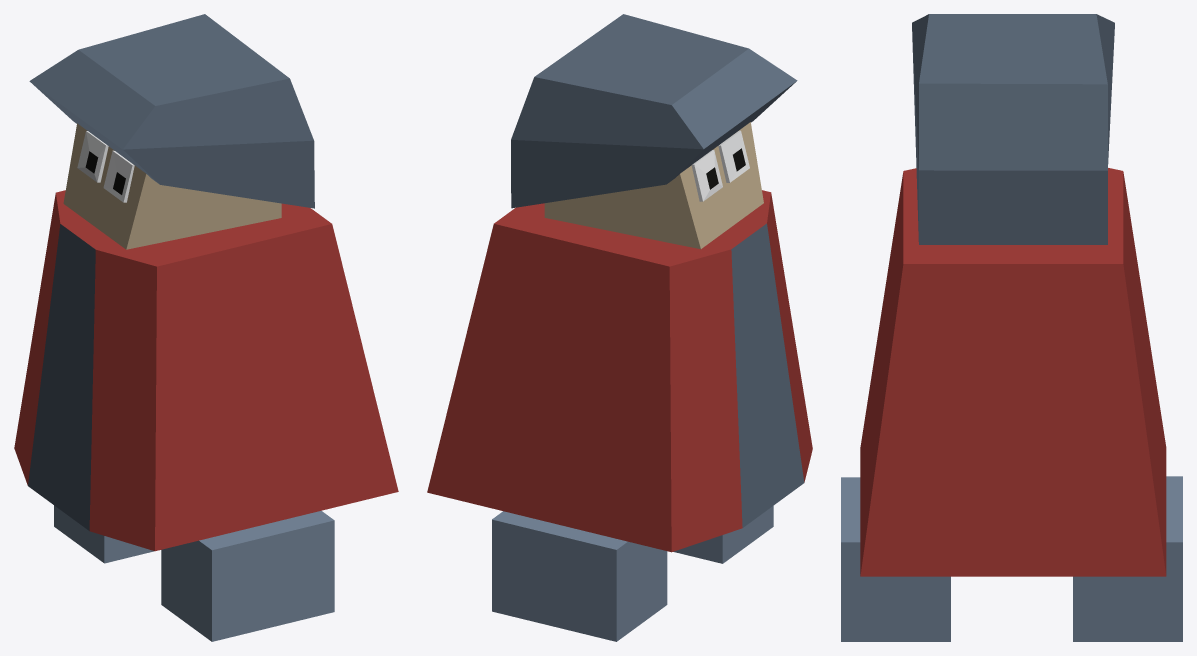
The model's file is character1.fbx.
3 renders of one model, left to right at view 1: azimuth 30°, elevation 25°; view 2: azimuth 150°, elevation 25°; view 3: azimuth 270°, elevation 25°, orthographic. The views are drawn at different scales.
Visible parts, largest first — view 1: character1; view 2: character1; view 3: character1.
Part boxes in pixels (box(x1,y1,x2,y2)): character1: box(14, 14, 398, 641); character1: box(427, 14, 812, 641); character1: box(841, 14, 1182, 641).
Size of the model in its own units: 55.25 by 98.95 by 55.29.
